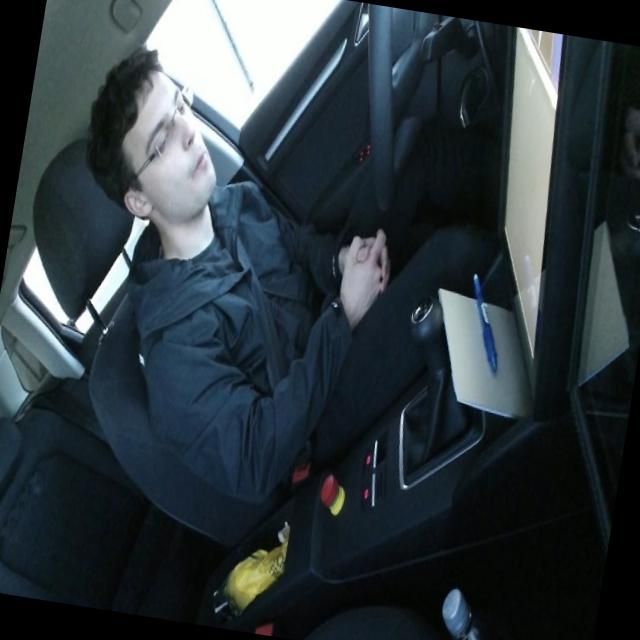pen: (457, 270, 512, 374)
